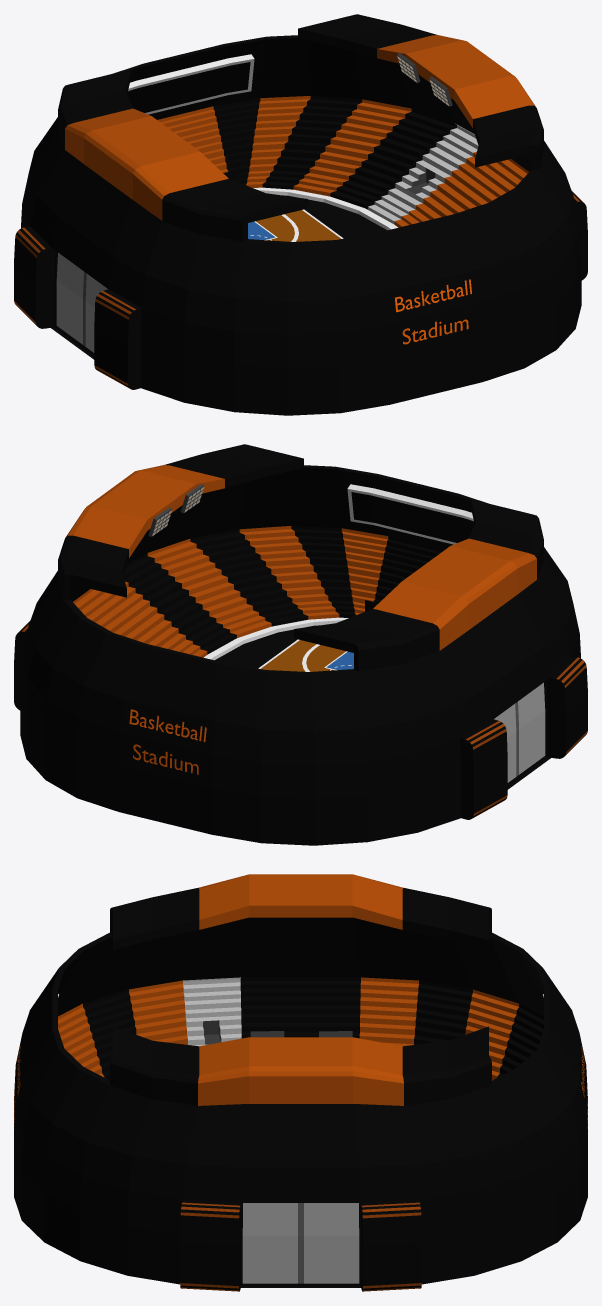
The model's file is estadium.glb.
3 renders of one model, top to bottom at view 1: azimuth 30°, elevation 25°; view 2: azimuth 150°, elevation 25°; view 3: azimuth 270°, elevation 25°, orthographic. The views are drawn at different scales.
Visible parts, largest first — view 1: BasketBall Stadium, BasketBall Stadium.003; view 2: BasketBall Stadium, BasketBall Stadium.003; view 3: BasketBall Stadium.
Boxes of the visible parts, x1,y1,x2,y2 form: BasketBall Stadium: (14,14,587,415); BasketBall Stadium.003: (248,209,343,241); BasketBall Stadium: (14,444,587,845); BasketBall Stadium.003: (258,639,353,671); BasketBall Stadium: (14,874,587,1291).
Size of the model in its own units: 274 by 108 by 272.
1 material, 1 textured.
